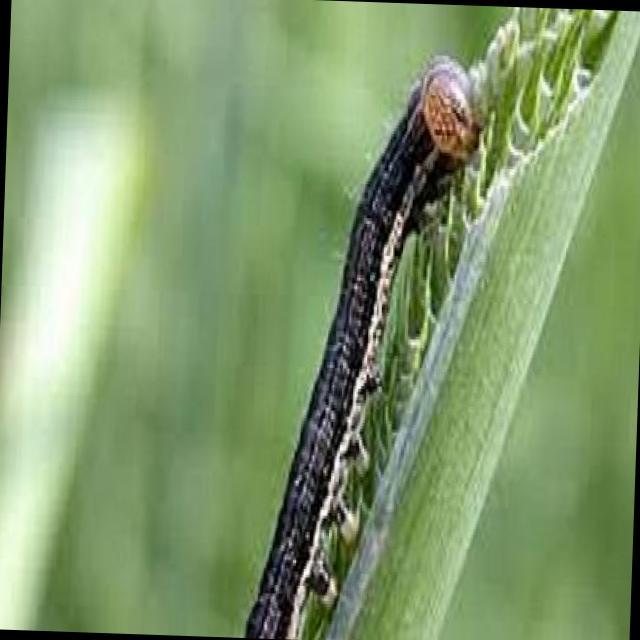armyworm: (234, 32, 492, 640)
